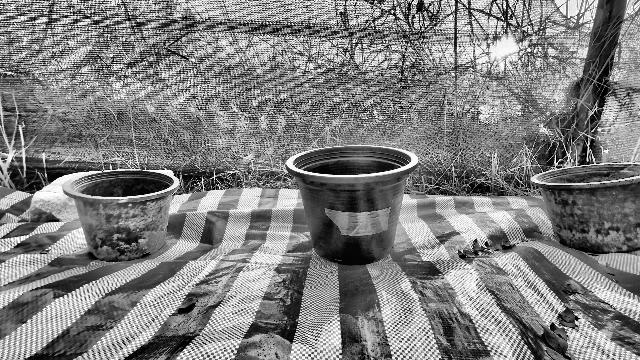pot: (285, 143, 418, 264), (62, 168, 180, 262), (529, 161, 639, 253)
